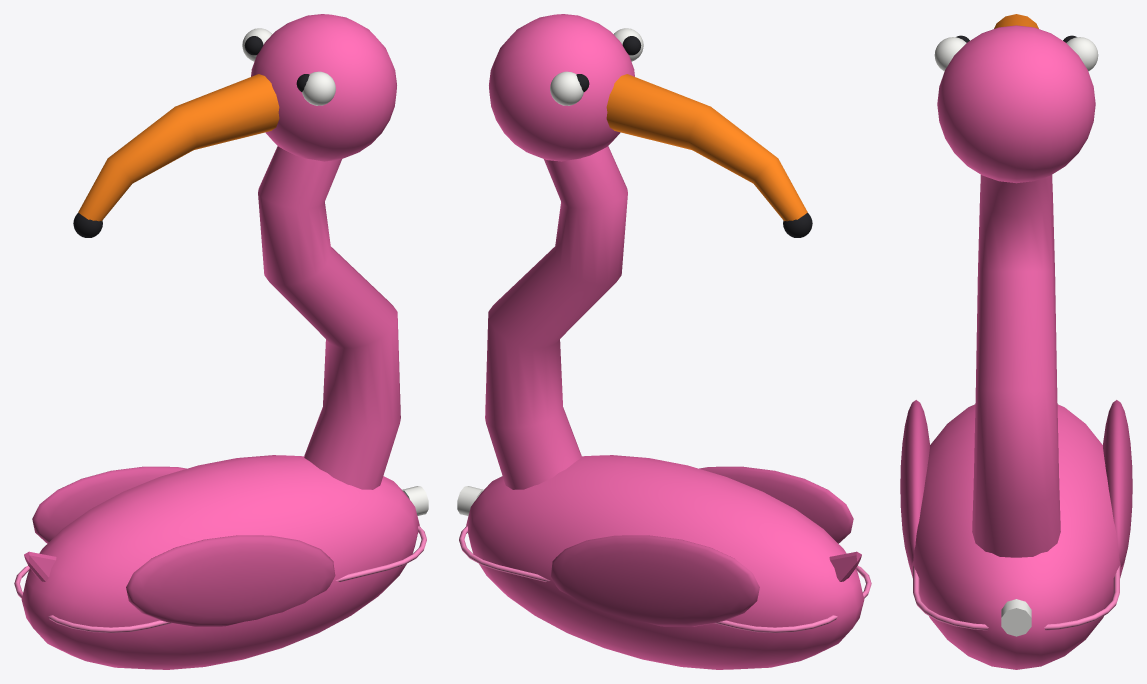
Rendered from flamingo.fbx.
3 views of the same model, side by side, from view 1: azimuth 30°, elevation 25°; view 2: azimuth 150°, elevation 25°; view 3: azimuth 270°, elevation 25° (orthographic). The views are drawn at different scales.
Parts seen in each view (by area): view 1: Inflatable Flamingo; view 2: Inflatable Flamingo; view 3: Inflatable Flamingo.
Part boxes in pixels (left/top/right/bottom): Inflatable Flamingo: left=14, top=14, right=428, bottom=669; Inflatable Flamingo: left=457, top=14, right=871, bottom=669; Inflatable Flamingo: left=900, top=14, right=1132, bottom=669.
Bounding box in the file's own units: 1.86 × 2.71 × 0.88.
